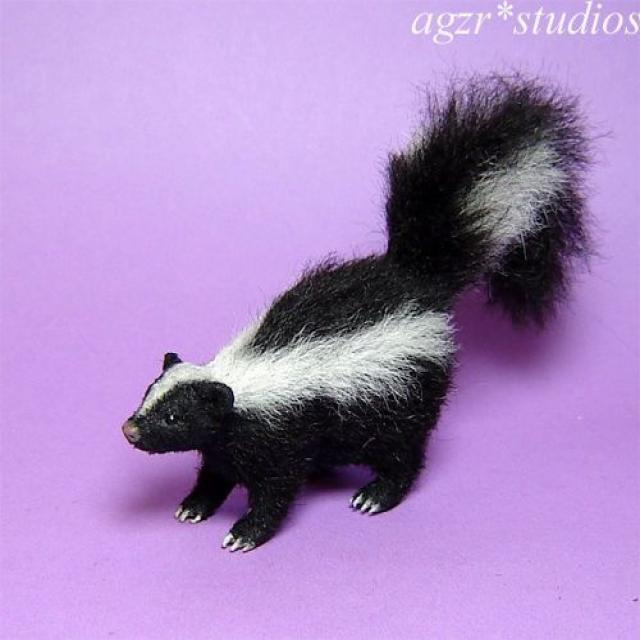Skunk: (124, 82, 595, 556)
